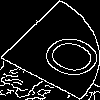O: (25, 25, 100, 84)
